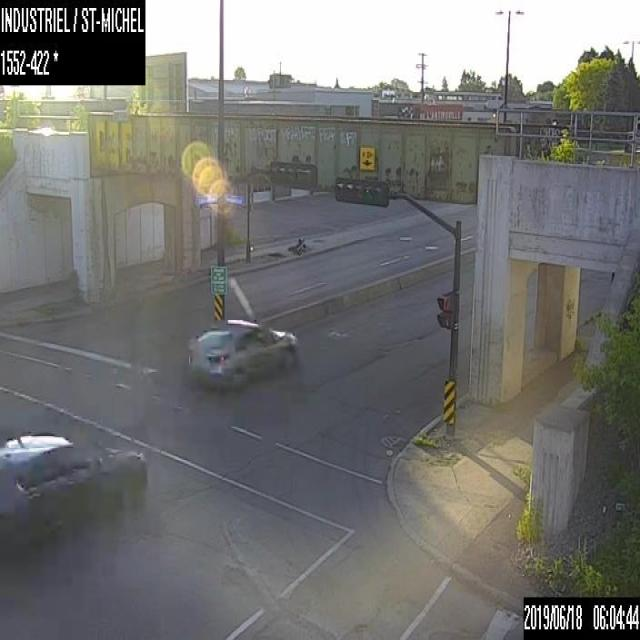vehicle: (0, 430, 147, 552), (186, 316, 298, 388)
